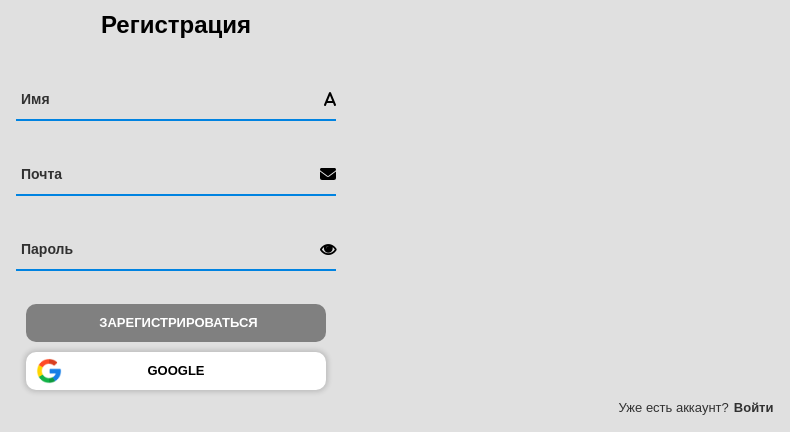
Test: Валидация полей в форме 'Регистрация' › Поле username должно быть невалидным
Step 1. Clear the field with test id "username-input" → coordinates (170, 99), box [16,79,324,119]
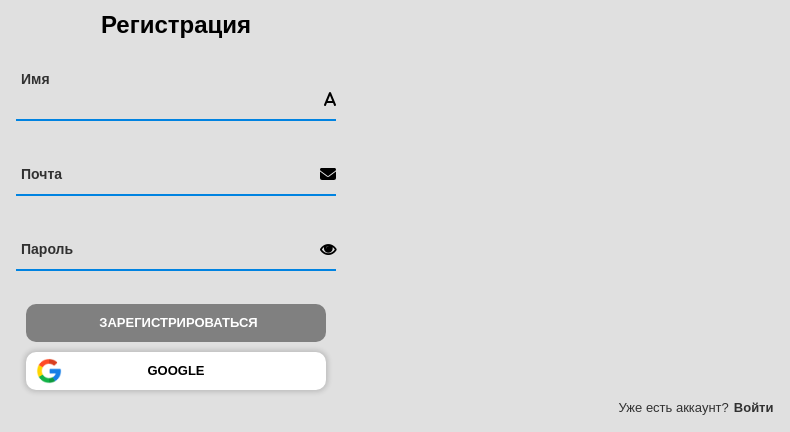
Step 2. Press Tab
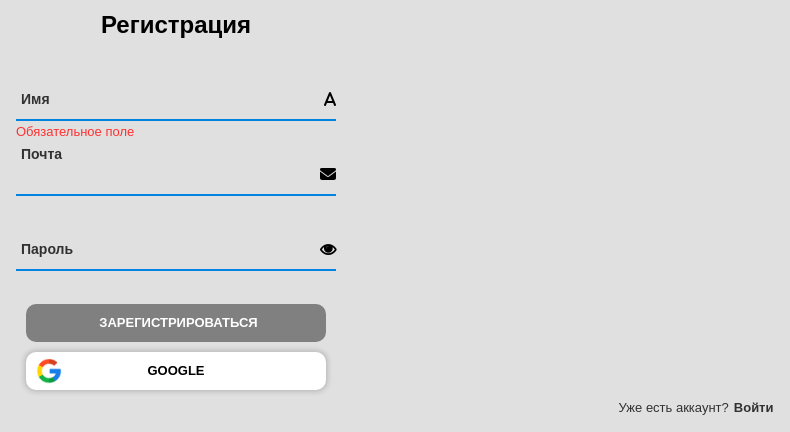
Expected: the text "Обязательное поле" is shown, [16,124,134,139]
